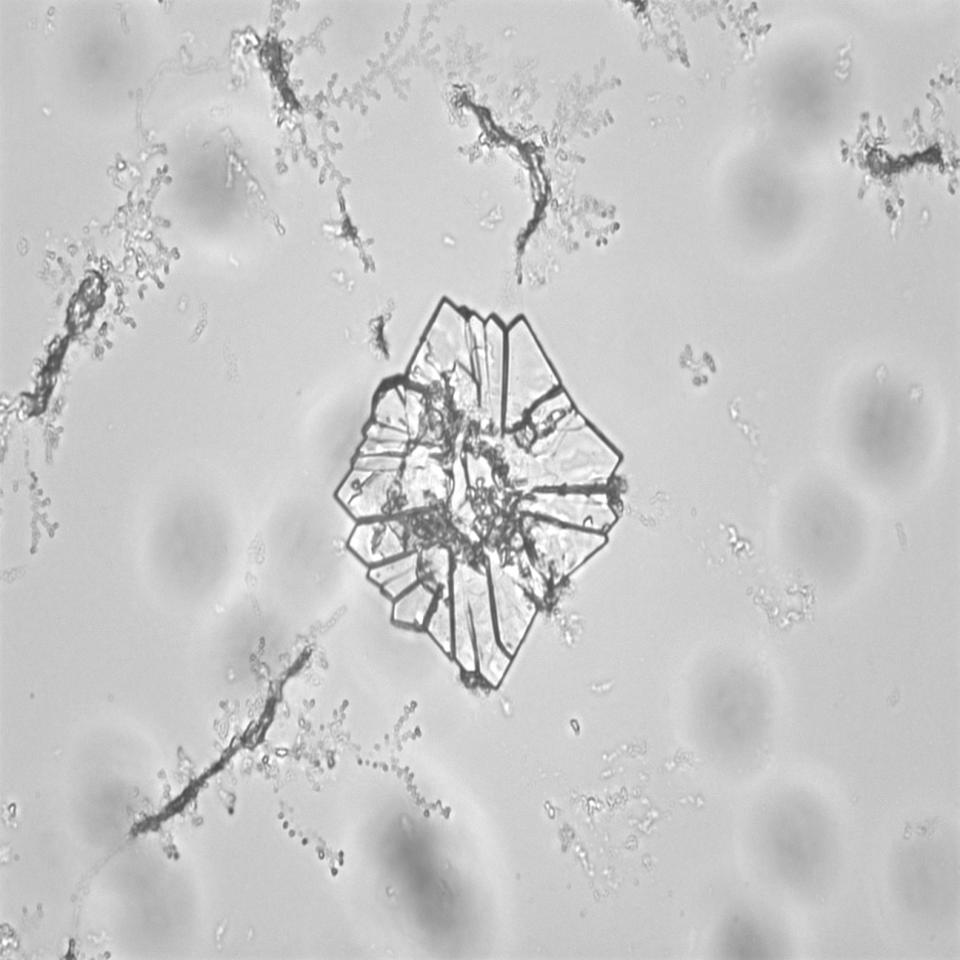crystal: (313, 283, 644, 725)
